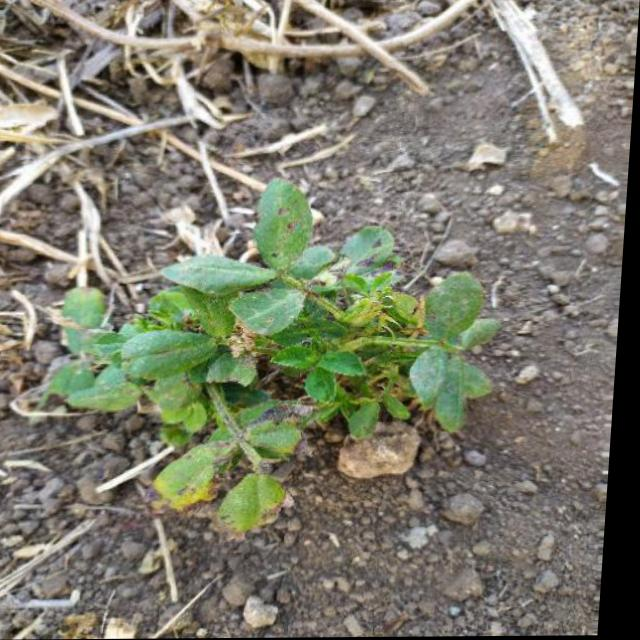weed: (35, 142, 538, 537)
